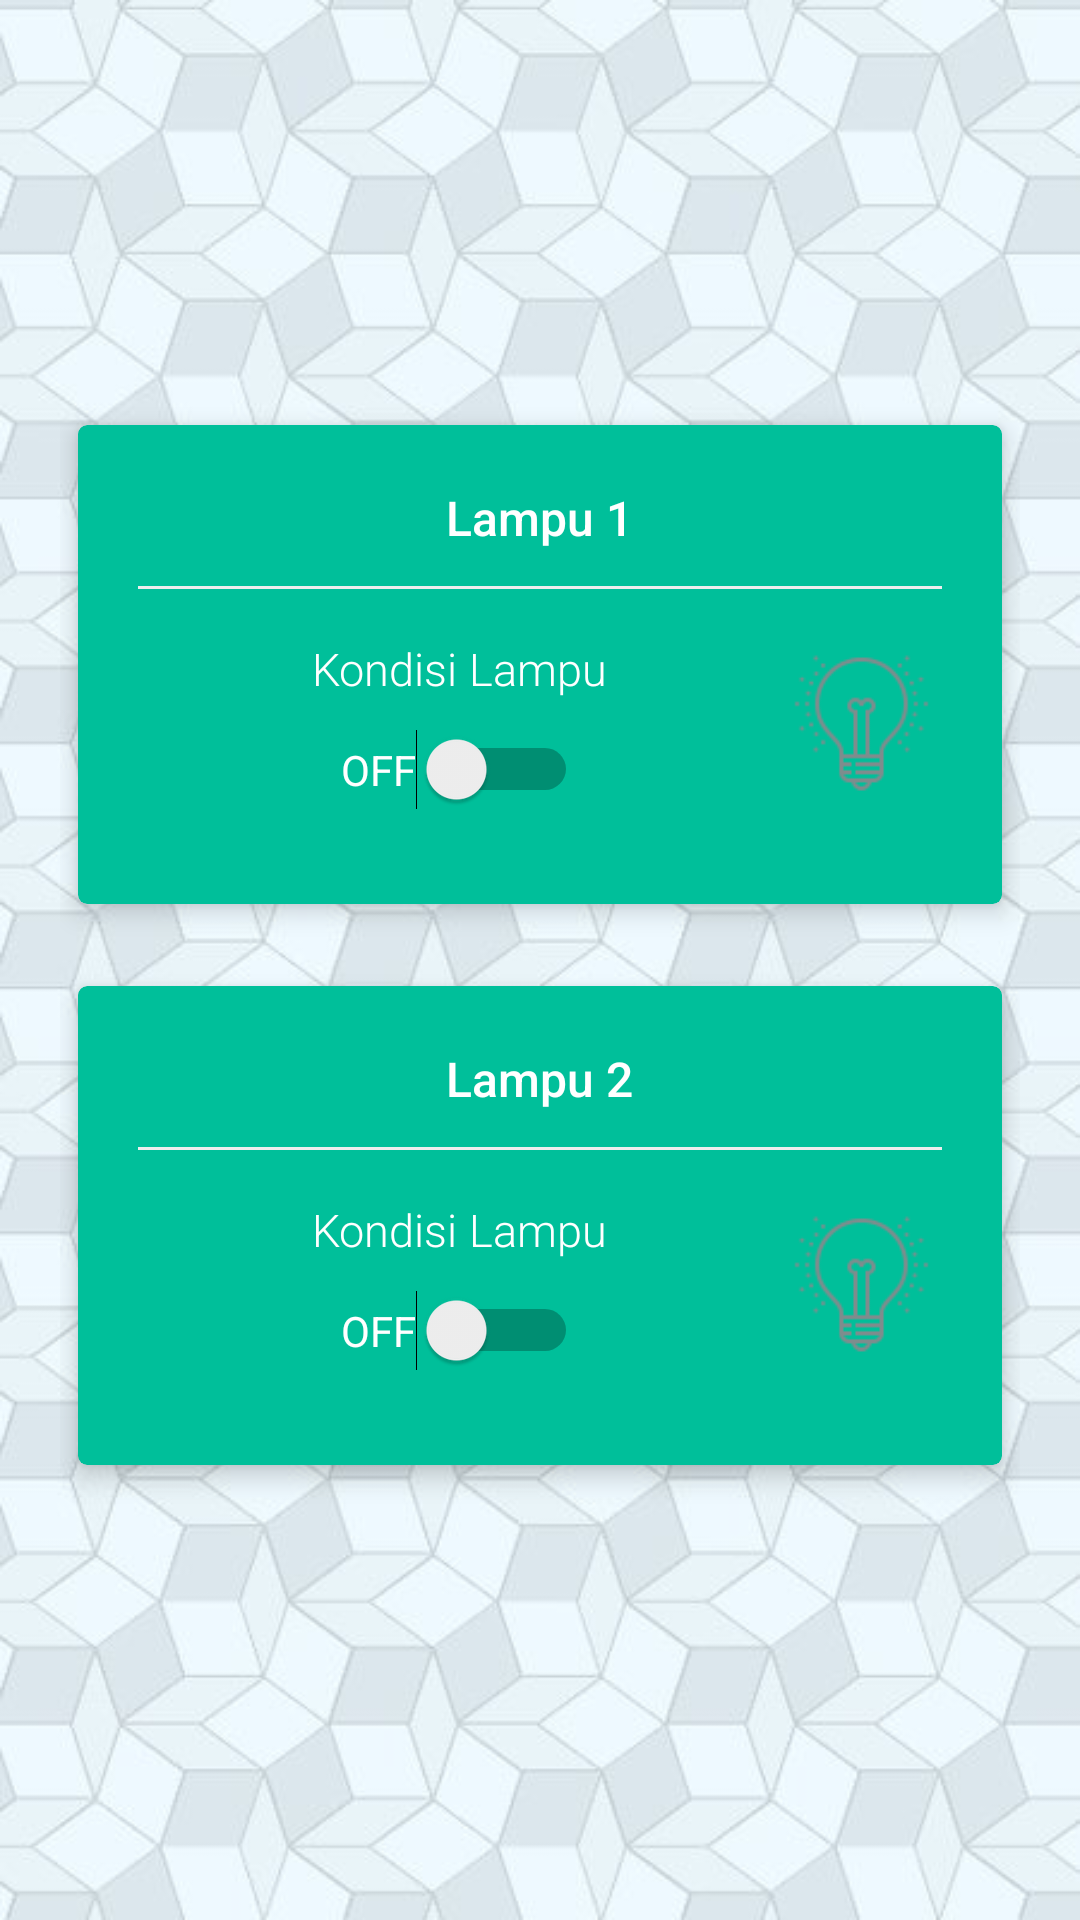

Where to tap for icons on this 1080 × 1920 app screen, as [x,y]:
lightoff: [861,723], [861,1284]
